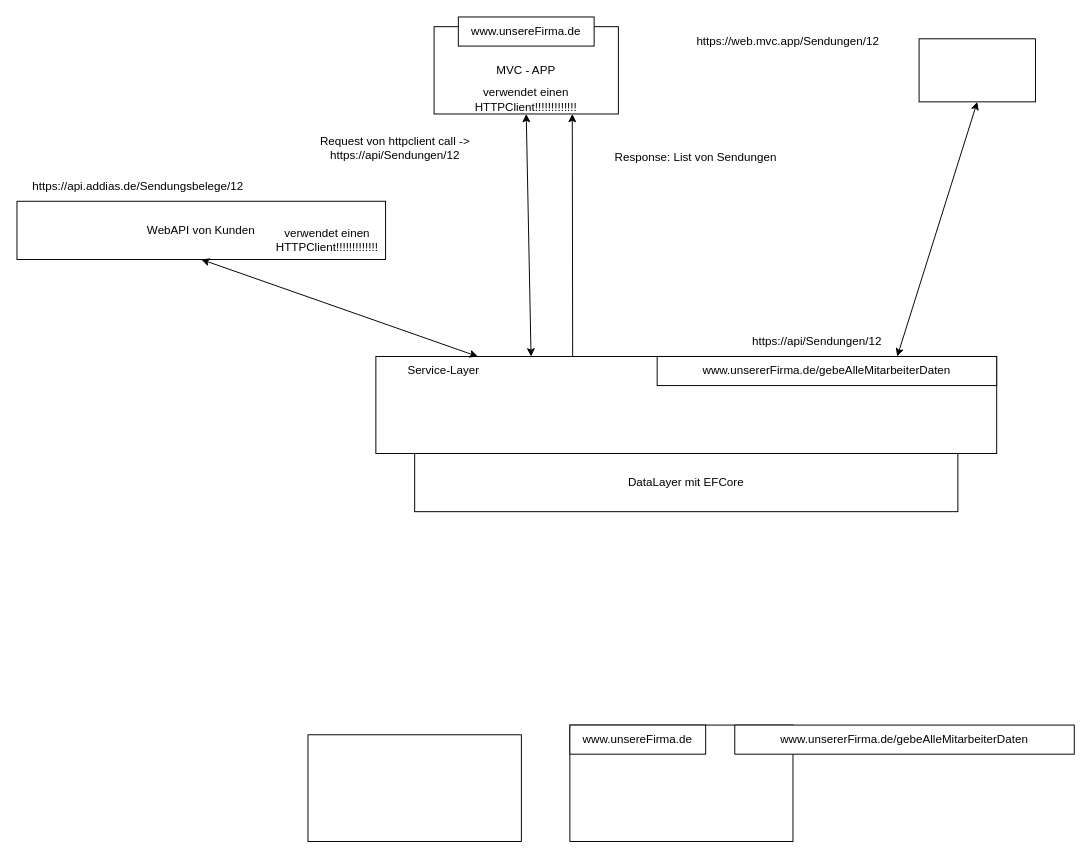
This 1091x858 diagram has some shape labels left out. Each missing label, with the box of its shape:
MobileApp: (918, 38, 1035, 102)
MVC / WebAPI: (569, 724, 793, 841)
WebAPI: (375, 356, 997, 453)
Weiter UI Client = Redundanz Redundanz = Teuer und schlecht: (307, 734, 521, 841)
